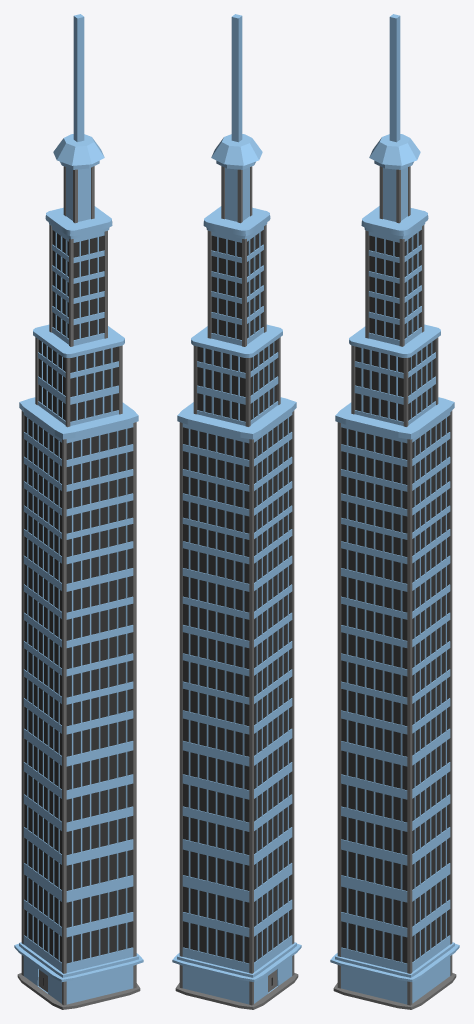
The model's file is largebuilding4.obj.
3 renders of one model, left to right at view 1: azimuth 30°, elevation 25°; view 2: azimuth 150°, elevation 25°; view 3: azimuth 330°, elevation 25°, orthographic.
Parts seen in each view (by area): view 1: pCube32_SkyScraperMain_0, pCube32_SkyWindows_0, pCube36_lambert1_0, pCube35_lambert1_0, pCube33_lambert1_0, pCube32_lambert1_0, pCube42_lambert1_0, pCube43_lambert1_0, pCube37_lambert1_0, pCube41_lambert1_0, pCube38_lambert1_0; view 2: pCube32_SkyScraperMain_0, pCube32_SkyWindows_0, pCube33_lambert1_0, pCube34_lambert1_0, pCube36_lambert1_0, pCube32_lambert1_0, pCube41_lambert1_0, pCube44_lambert1_0, pCube40_lambert1_0, pCube42_lambert1_0, pCube39_lambert1_0; view 3: pCube32_SkyScraperMain_0, pCube32_SkyWindows_0, pCube35_lambert1_0, pCube36_lambert1_0, pCube34_lambert1_0, pCube32_lambert1_0, pCube43_lambert1_0, pCube42_lambert1_0, pCube38_lambert1_0, pCube44_lambert1_0, pCube37_lambert1_0.
Part boxes in pixels (<box>): pCube32_SkyScraperMain_0: <box>14,14,143,1004</box>; pCube32_SkyWindows_0: <box>24,230,132,963</box>; pCube36_lambert1_0: <box>62,439,66,1005</box>; pCube35_lambert1_0: <box>133,422,136,988</box>; pCube33_lambert1_0: <box>21,410,24,975</box>; pCube32_lambert1_0: <box>17,973,140,1009</box>; pCube42_lambert1_0: <box>69,239,73,346</box>; pCube43_lambert1_0: <box>104,231,107,338</box>; pCube37_lambert1_0: <box>65,358,70,427</box>; pCube41_lambert1_0: <box>49,225,52,332</box>; pCube38_lambert1_0: <box>118,345,122,414</box>; pCube32_SkyScraperMain_0: <box>172,14,301,1004</box>; pCube32_SkyWindows_0: <box>183,230,291,963</box>; pCube33_lambert1_0: <box>249,439,253,1005</box>; pCube34_lambert1_0: <box>179,422,182,988</box>; pCube36_lambert1_0: <box>291,410,294,975</box>; pCube32_lambert1_0: <box>175,973,298,1009</box>; pCube41_lambert1_0: <box>242,239,246,346</box>; pCube44_lambert1_0: <box>207,230,211,338</box>; pCube40_lambert1_0: <box>245,358,250,426</box>; pCube42_lambert1_0: <box>263,225,266,332</box>; pCube39_lambert1_0: <box>193,345,197,414</box>; pCube32_SkyScraperMain_0: <box>330,14,459,1004</box>; pCube32_SkyWindows_0: <box>341,230,449,963</box>; pCube35_lambert1_0: <box>407,439,412,1005</box>; pCube36_lambert1_0: <box>337,422,341,988</box>; pCube34_lambert1_0: <box>449,410,452,975</box>; pCube32_lambert1_0: <box>333,973,456,1009</box>; pCube43_lambert1_0: <box>399,239,404,346</box>; pCube42_lambert1_0: <box>365,230,369,338</box>; pCube38_lambert1_0: <box>403,358,408,426</box>; pCube44_lambert1_0: <box>421,225,424,332</box>; pCube37_lambert1_0: <box>351,345,355,414</box>.
Size of the model in its own units: 0.0903 by 0.9744 by 0.0903.
